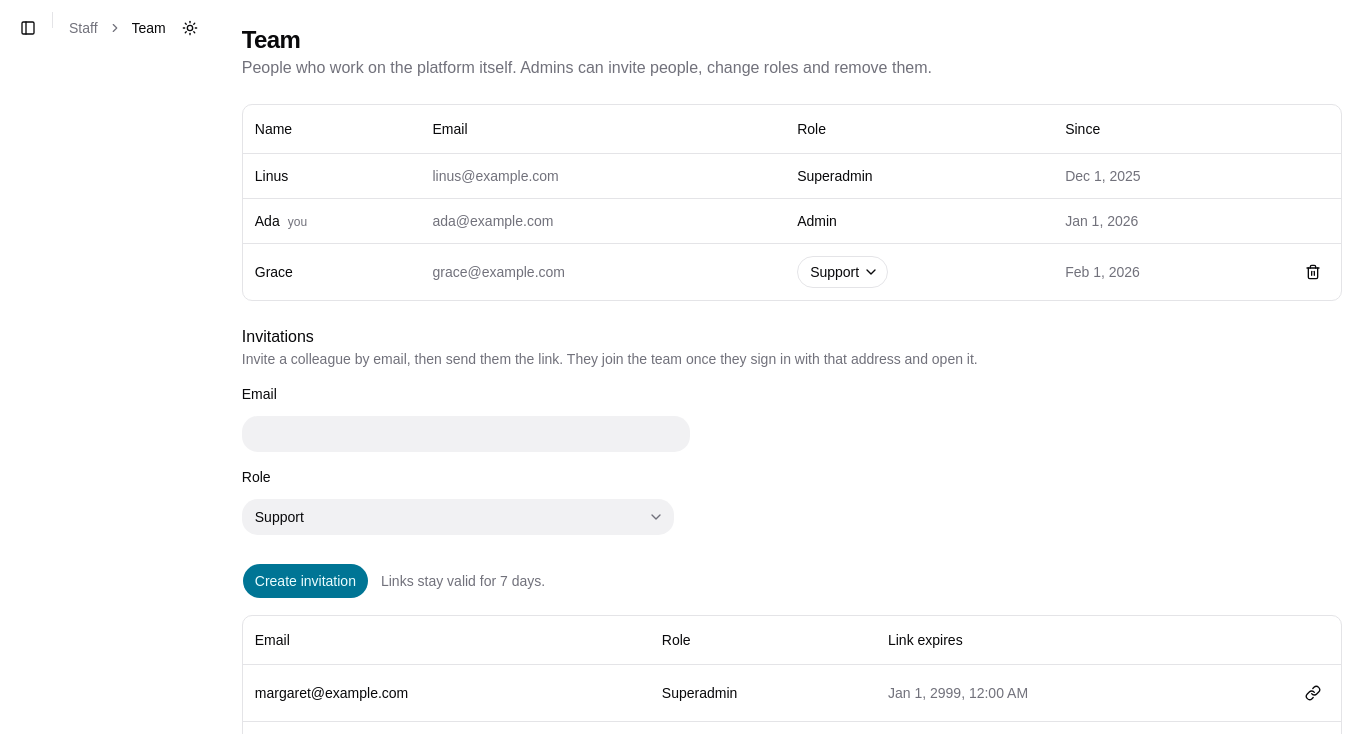
Test: StaffTeamPage › surfaces a failure, such as removing the last admin
This screenshot has width=1366, height=734.
What coordinates should you click on to do the following:
click the button named "Remove Grace"
I would click on:
 (1313, 272)
Its box is top-left (1297, 256), bottom-right (1329, 288).
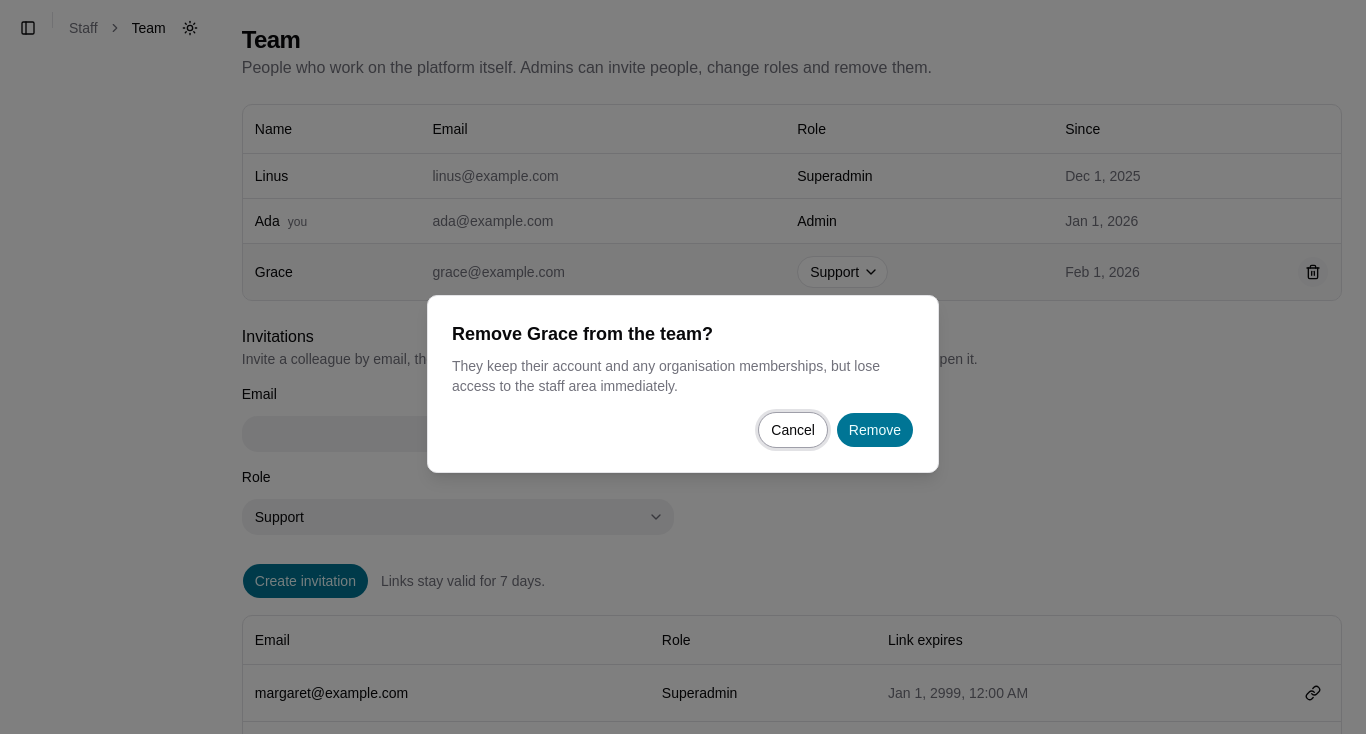
What coordinates should you click on to do the following:
click the button "Remove"
I would click on:
 (875, 430)
Its box is top-left (836, 412), bottom-right (914, 448).
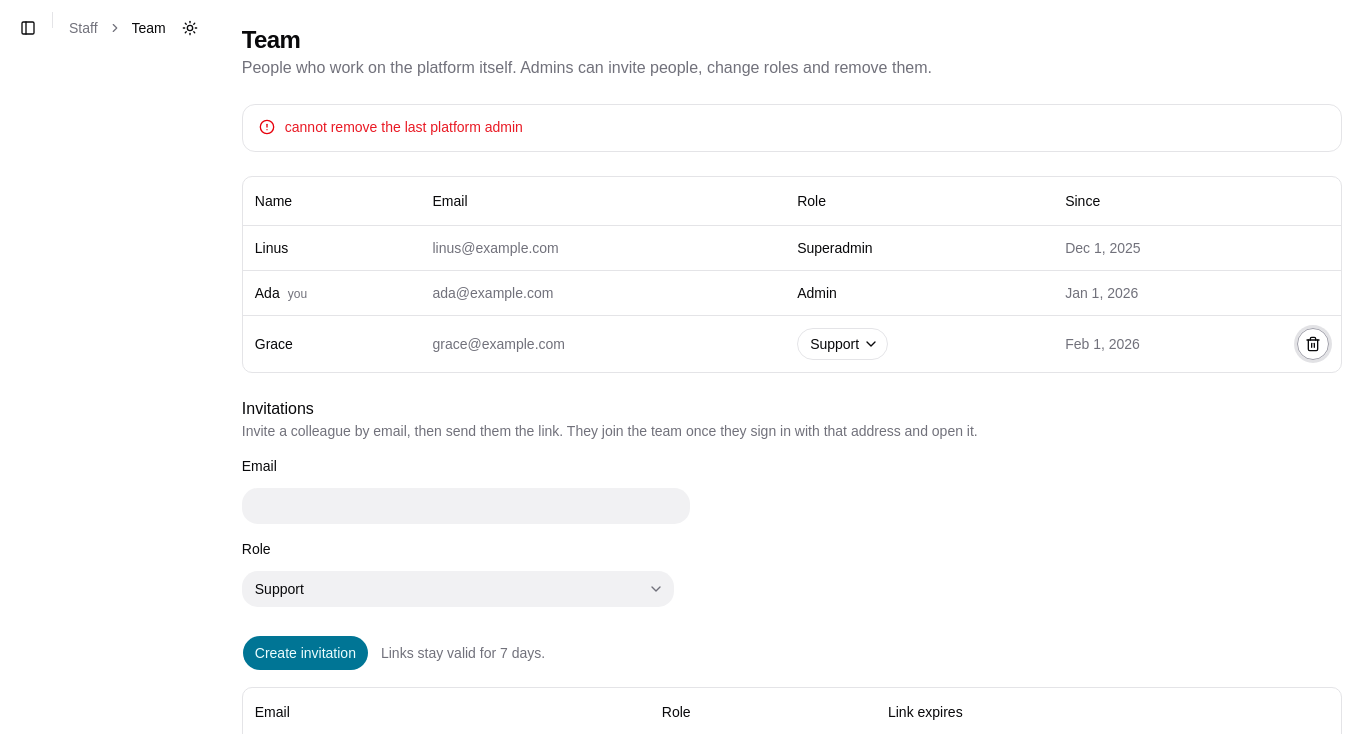
Result: the text "cannot remove the last platform admin" is shown at top-left (285, 119), bottom-right (523, 135)
